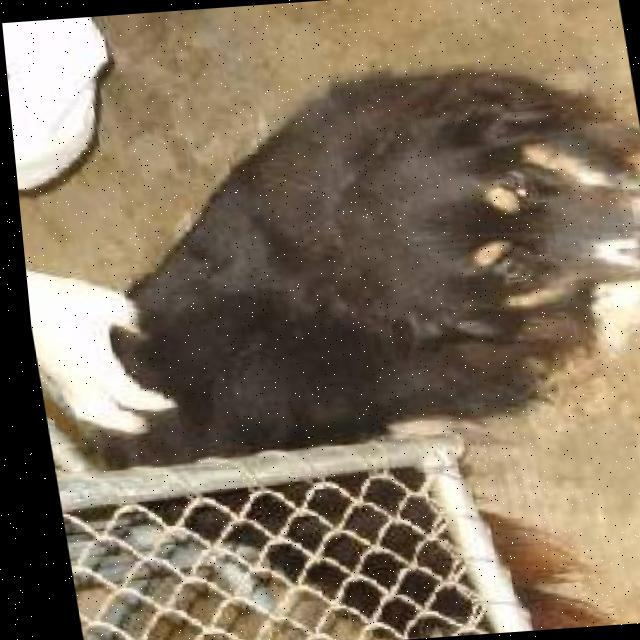dogs: (4, 48, 640, 640)
